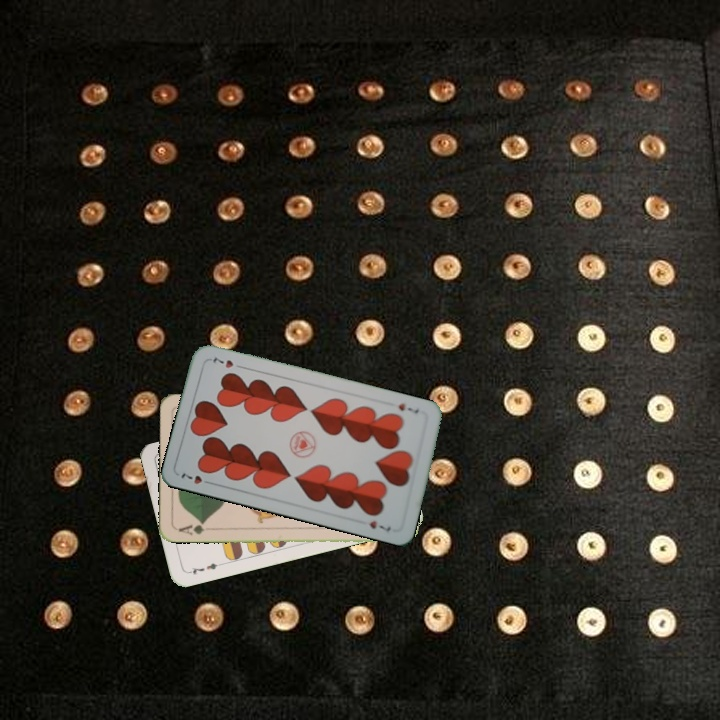E7: (184, 559, 224, 577)
GA: (175, 518, 207, 538)
H7: (176, 468, 216, 488), (394, 399, 421, 416)
